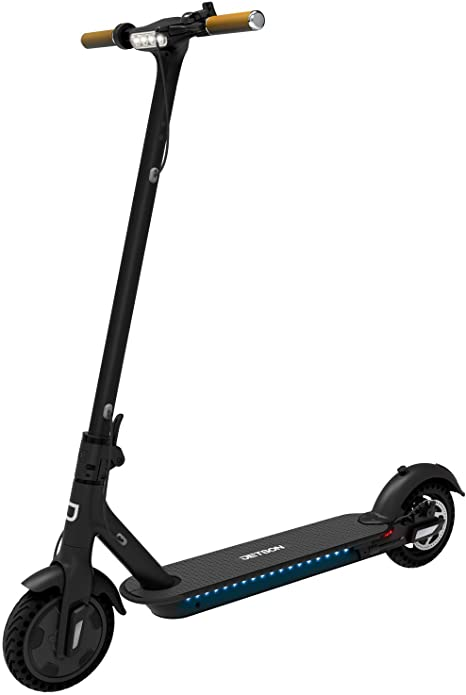scooter: (1, 1, 466, 695)
